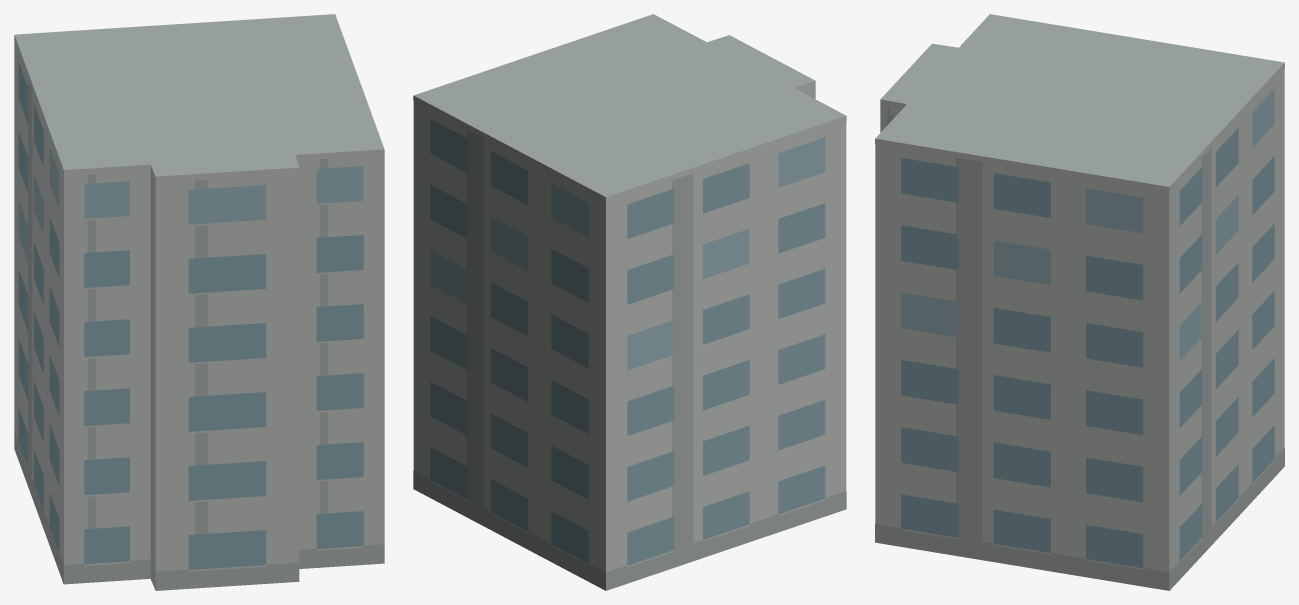
The model's file is survey-upis-33010489.glb.
The picture shows the model from 3 angles, left to right: view 1: azimuth 30°, elevation 25°; view 2: azimuth 150°, elevation 25°; view 3: azimuth 270°, elevation 25°; orthographic projection. The views are drawn at different scales.
Visible parts, largest first — view 1: survey-upis-33010489.tmp; view 2: survey-upis-33010489.tmp; view 3: survey-upis-33010489.tmp.
Part boxes in pixels (left/top/right/bottom): survey-upis-33010489.tmp: left=14, top=14, right=384, bottom=590; survey-upis-33010489.tmp: left=413, top=14, right=846, bottom=590; survey-upis-33010489.tmp: left=875, top=14, right=1284, bottom=590.
Size of the model in its own units: 15.81 by 17.2 by 15.82.
